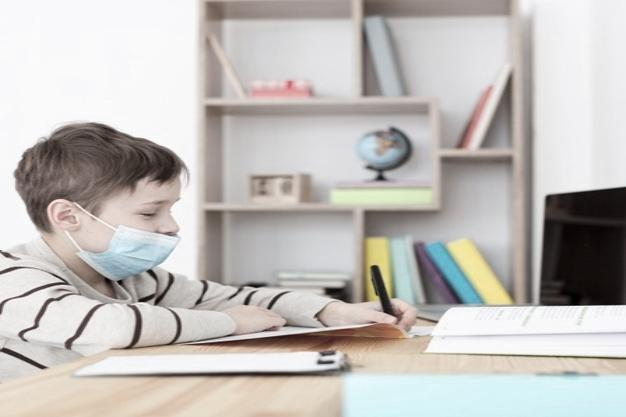mask_weared_incorrect: (18, 119, 187, 283)
